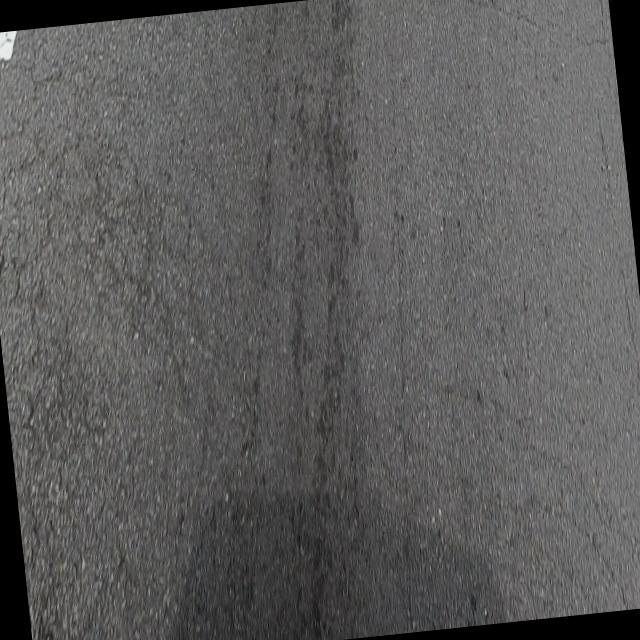Retak-Buaya: (0, 30, 214, 640)
